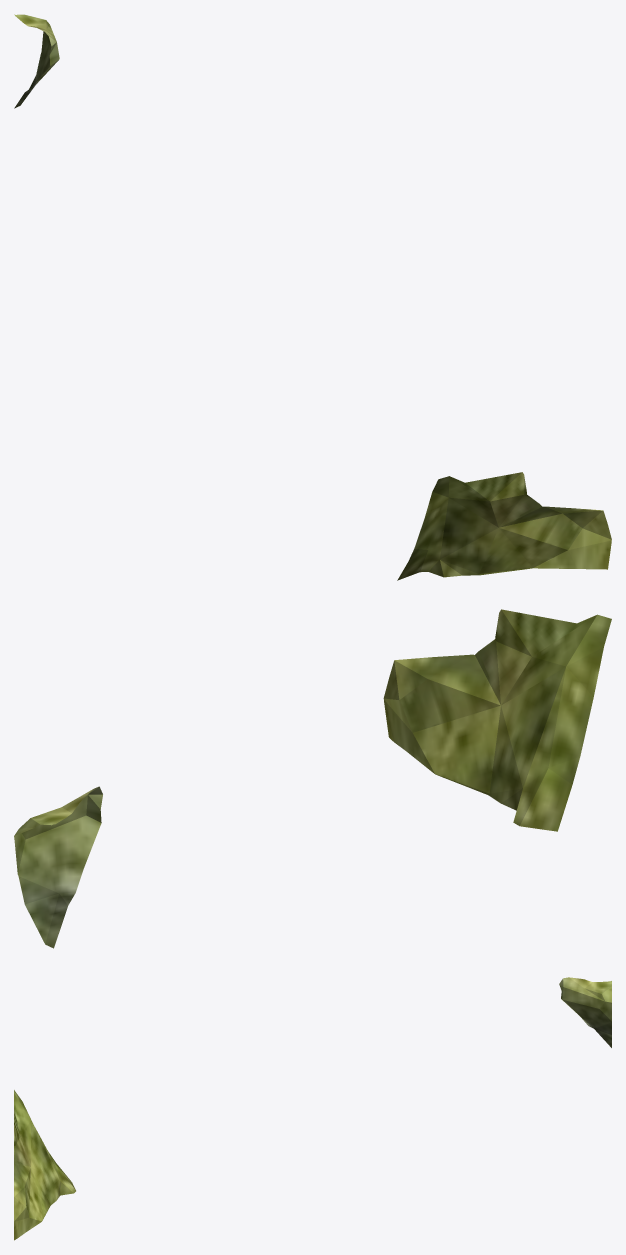
The picture shows the model from 3 angles, top to bottom: view 1: azimuth 30°, elevation 25°; view 2: azimuth 150°, elevation 25°; view 3: azimuth 270°, elevation 25°; orthographic projection. The views are drawn at different scales.
Bounding box in the file's own units: 0.6967 × 1.12 × 2.95.
1 material, 1 textured.
